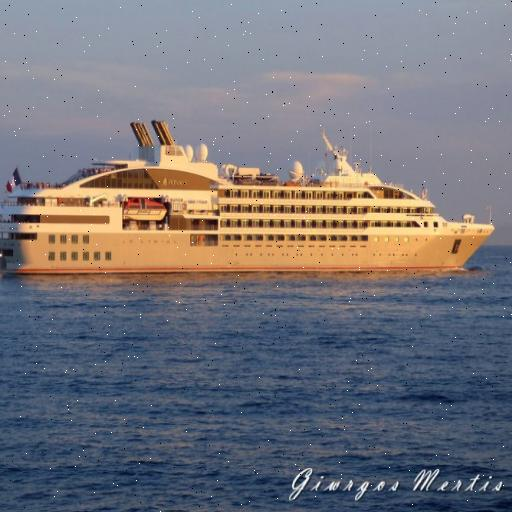cruises: (1, 118, 502, 283)
